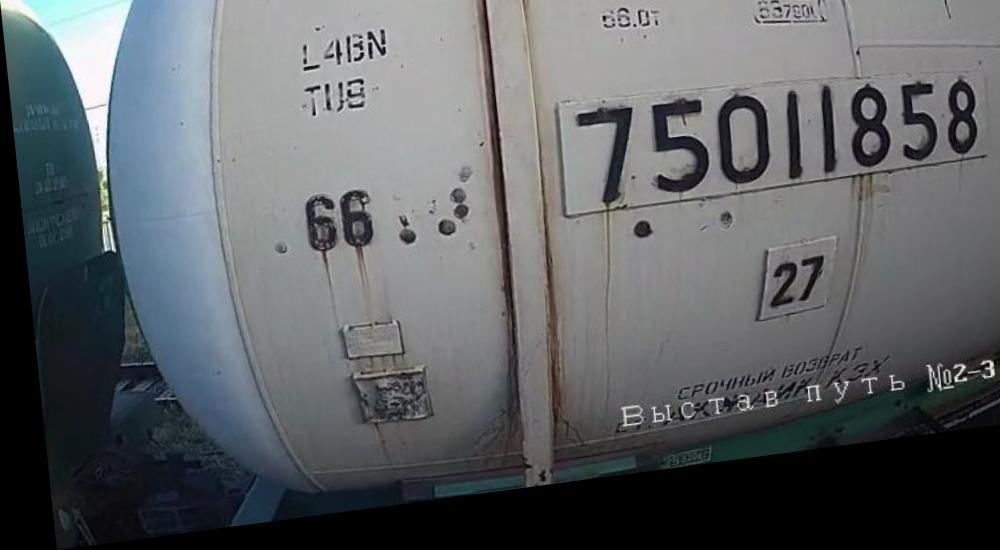Wagon-number: (564, 80, 983, 227)
